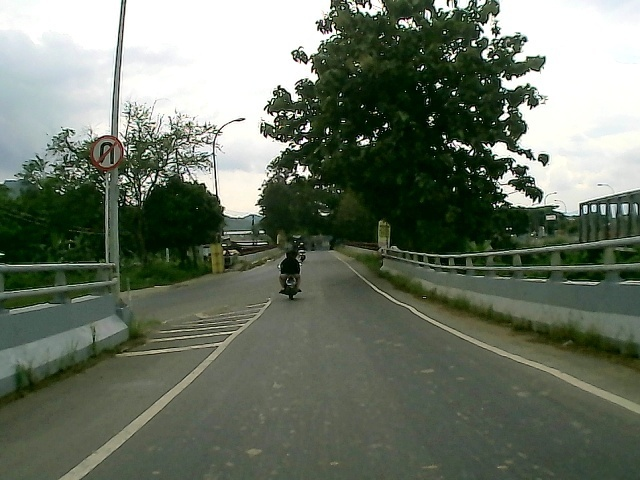Dilarang berbalik arah: (86, 133, 129, 173)
